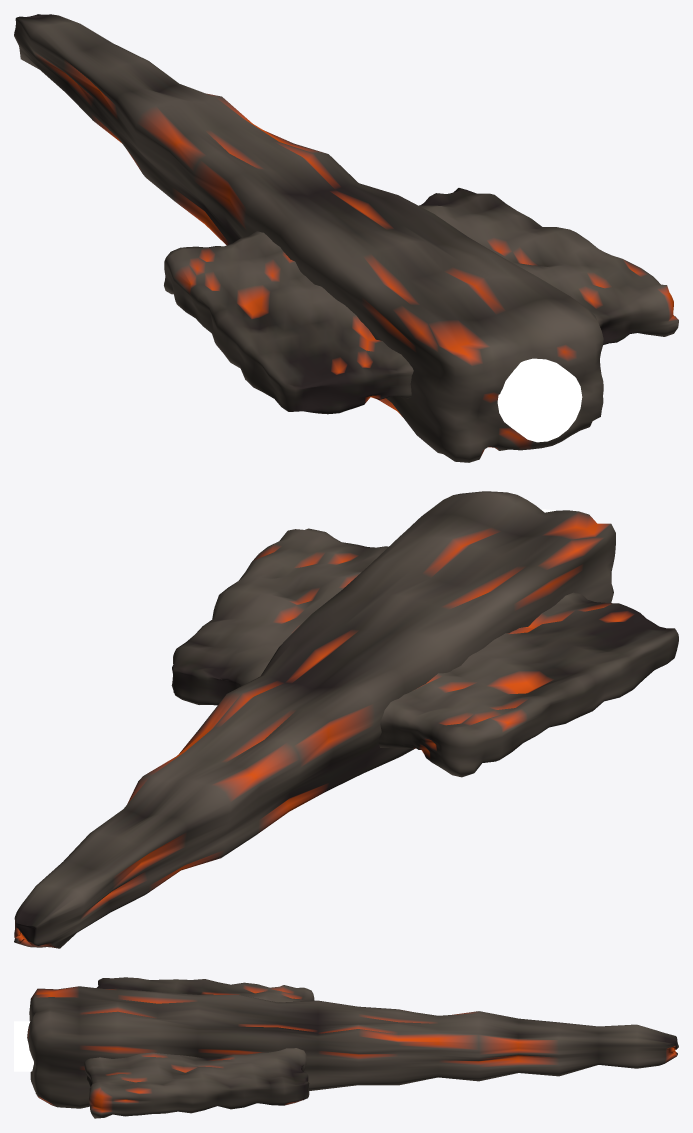
Rendered from thraal_small.glb.
The picture shows the model from 3 angles, top to bottom: view 1: azimuth 30°, elevation 25°; view 2: azimuth 150°, elevation 25°; view 3: azimuth 270°, elevation 25°; orthographic projection. The views are drawn at different scales.
Visible parts, largest first — view 1: thraal_small.001; view 2: thraal_small.001; view 3: thraal_small.001.
Boxes of the visible parts, x1,y1,x2,y2 form: thraal_small.001: (14, 14, 678, 462); thraal_small.001: (14, 491, 678, 948); thraal_small.001: (14, 977, 678, 1118).
Bounding box in the file's own units: 4.3 × 1.37 × 10.
